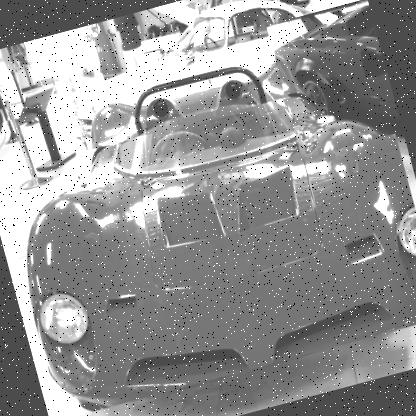Car: (0, 24, 415, 415), (51, 0, 358, 153), (266, 0, 404, 160), (133, 0, 371, 72)
